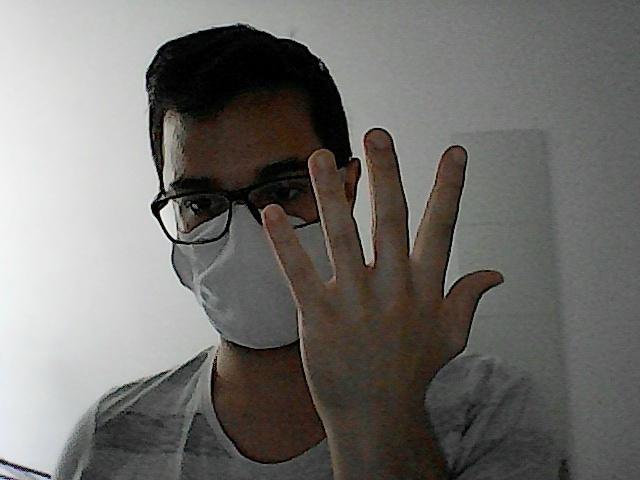jump: (255, 119, 512, 395)
